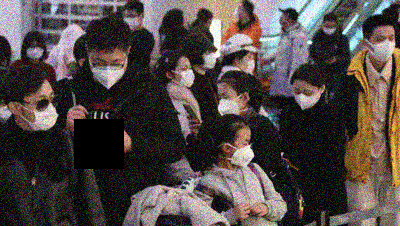with_mask: (29, 90, 60, 133), (92, 57, 128, 88), (370, 32, 398, 63), (231, 138, 255, 167), (218, 91, 242, 117), (293, 87, 320, 110), (175, 64, 196, 86), (26, 42, 45, 61), (123, 12, 140, 31), (243, 52, 257, 74), (203, 50, 218, 70), (235, 5, 246, 21), (323, 25, 338, 35), (184, 18, 192, 32)
